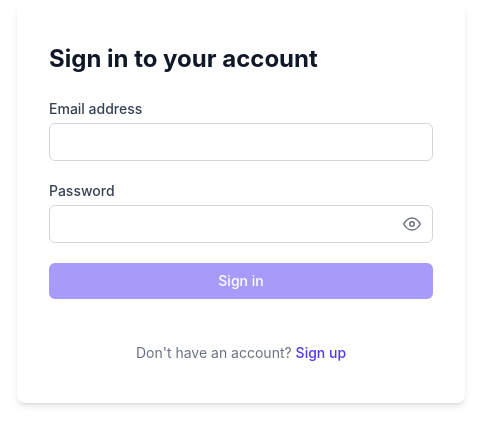
Test: LoginForm › field validation: empty password on blur shows "Password is required."
// Focus the password input then leave it
Click the password field labelled "Password". click: (241,224)
box: 49,205 -> 433,243
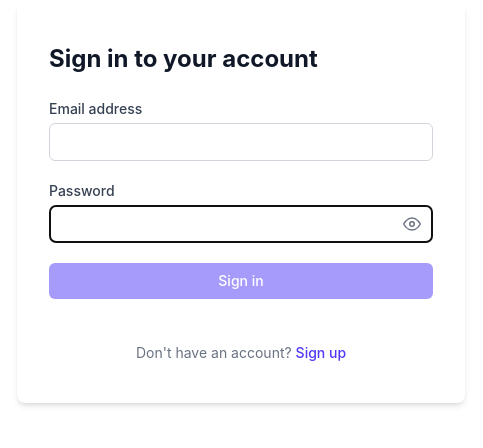
Press Tab
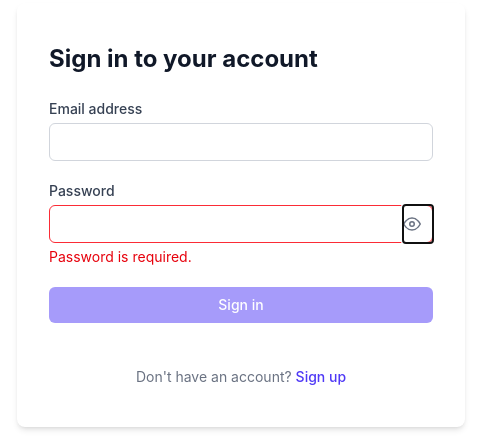
Check: the text "Password is required." is shown, box 49,248 -> 192,265
